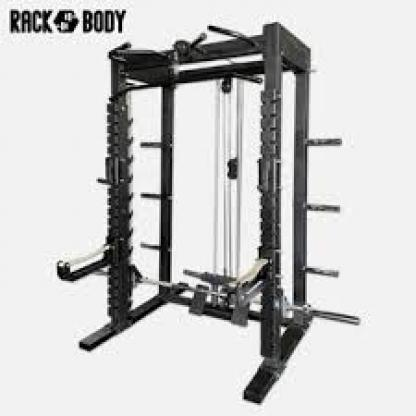smith machine: (57, 35, 361, 406)
